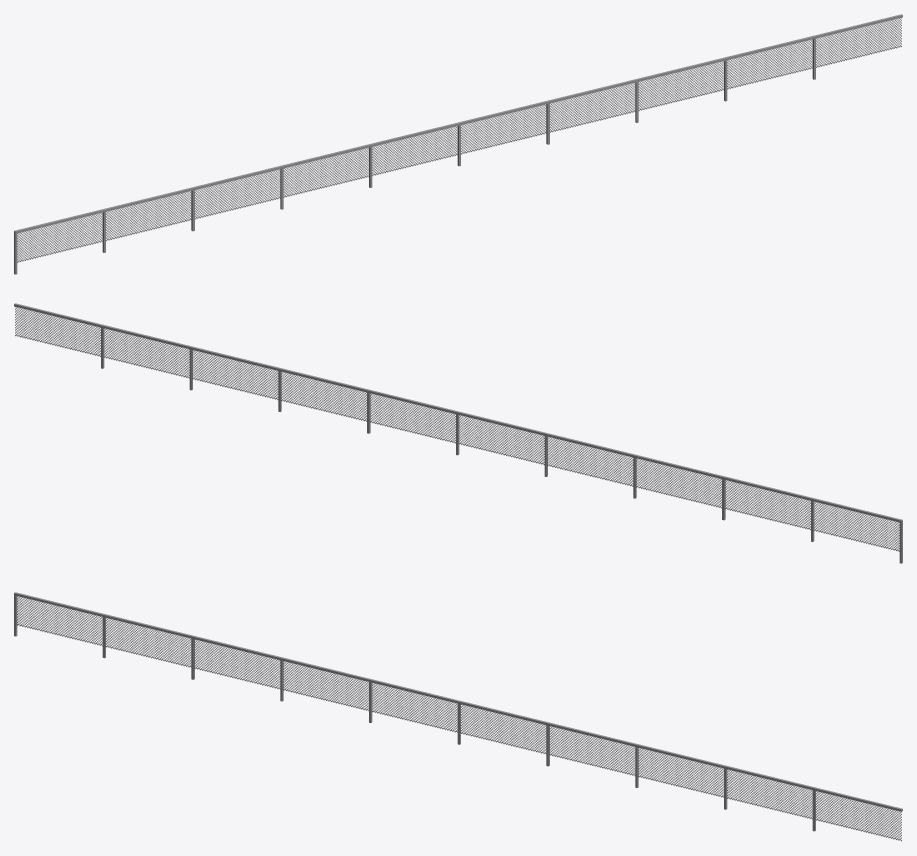
The model's file is fence-chainlink-1rail-10s-cbj_LOD00.gltf.
3 views of the same model, one above another, from view 1: azimuth 30°, elevation 25°; view 2: azimuth 150°, elevation 25°; view 3: azimuth 330°, elevation 25° (orthographic).
Parts seen in each view (by area): view 1: post; view 2: post; view 3: post.
Boxes of the visible parts, bbox=[...] form: post: bbox=[14, 14, 902, 274]; post: bbox=[14, 303, 902, 563]; post: bbox=[14, 592, 902, 841].
Bounding box in the file's own units: 28.71 × 1.33 × 0.07.
